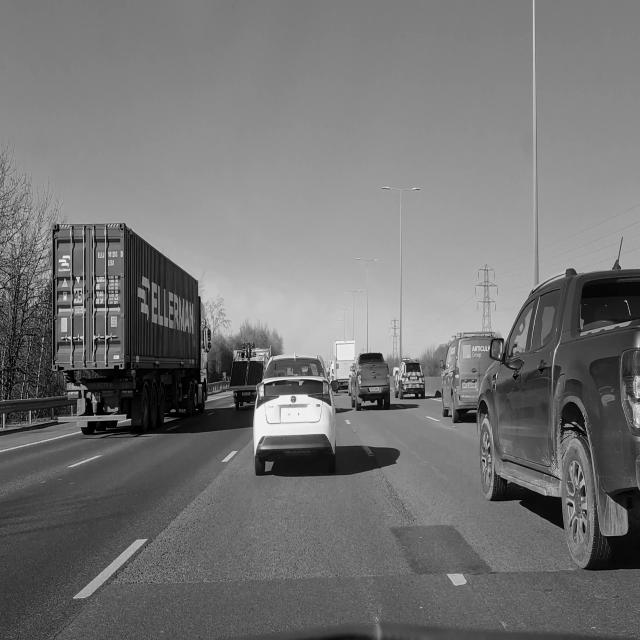car: (474, 250, 640, 577), (253, 355, 338, 475), (440, 332, 495, 423), (347, 345, 393, 412), (395, 359, 424, 398)
